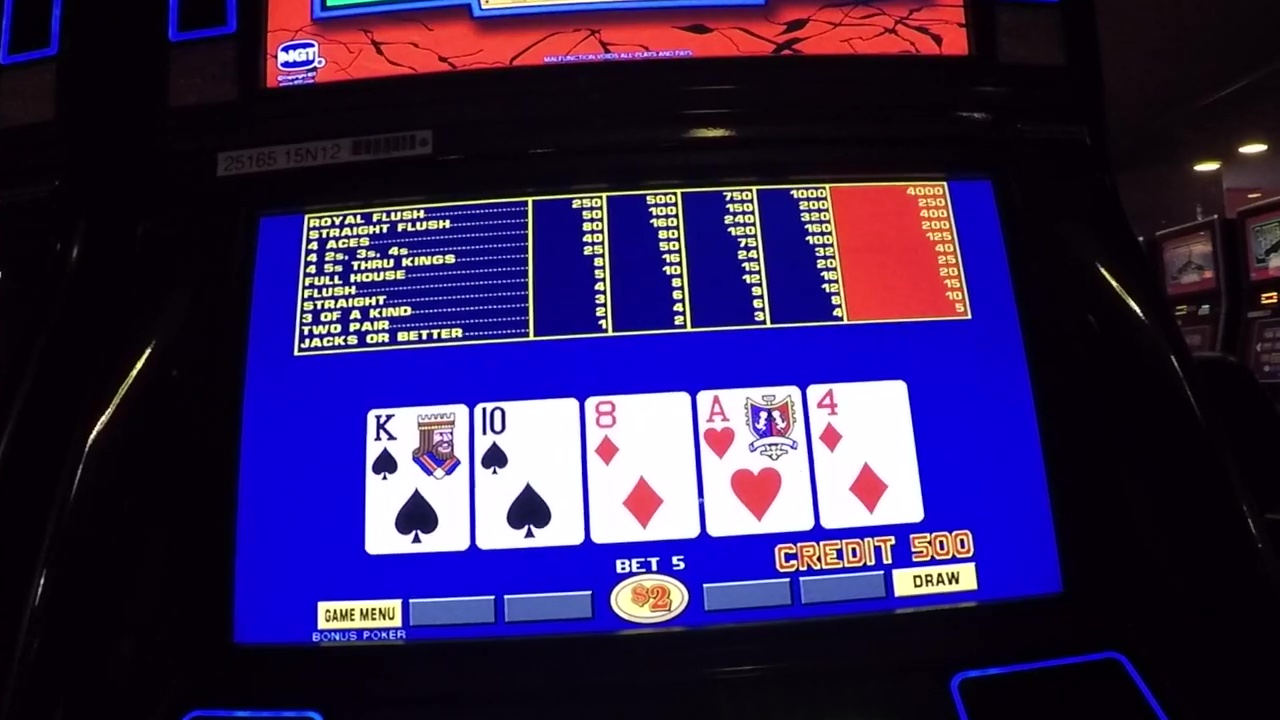D4: (816, 387, 909, 461)
D8: (589, 399, 689, 470)
HA: (703, 393, 801, 463)
SK: (370, 410, 468, 478)
ST: (476, 403, 578, 477)
